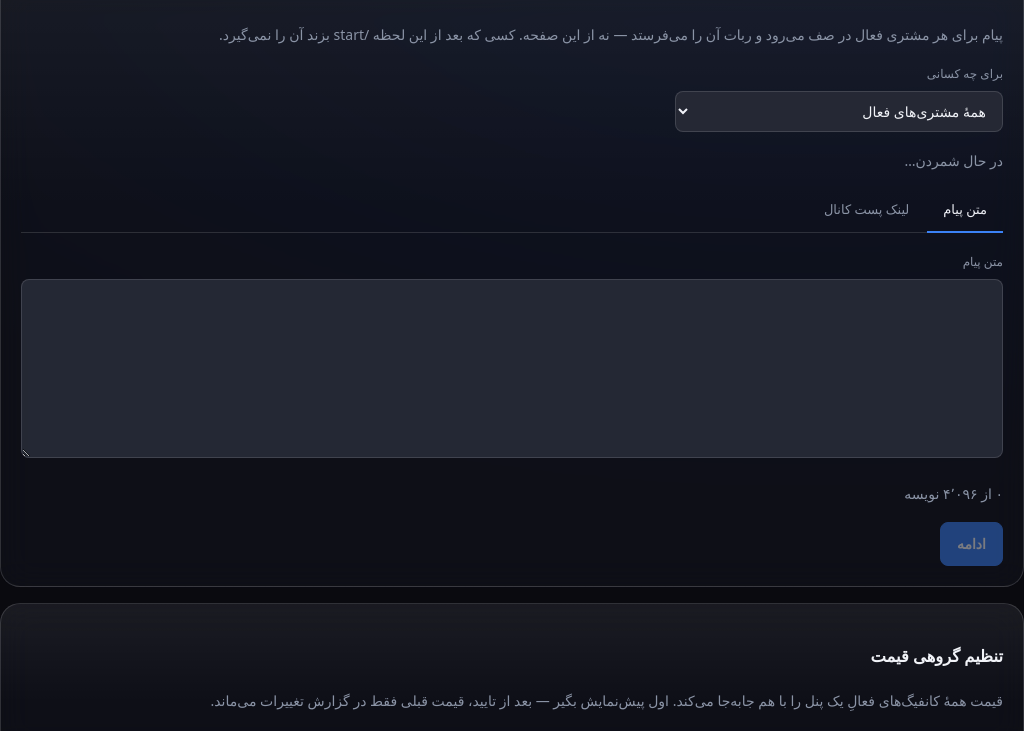
Test: choosing who hears a broadcast › will not send to a panel audience before a panel is chosen
The image size is (1024, 731).
(page scrolled)
Type "سلام" into the text box labelled "متن پیام" at {"x": 512, "y": 369}, box [21, 279, 1003, 458]
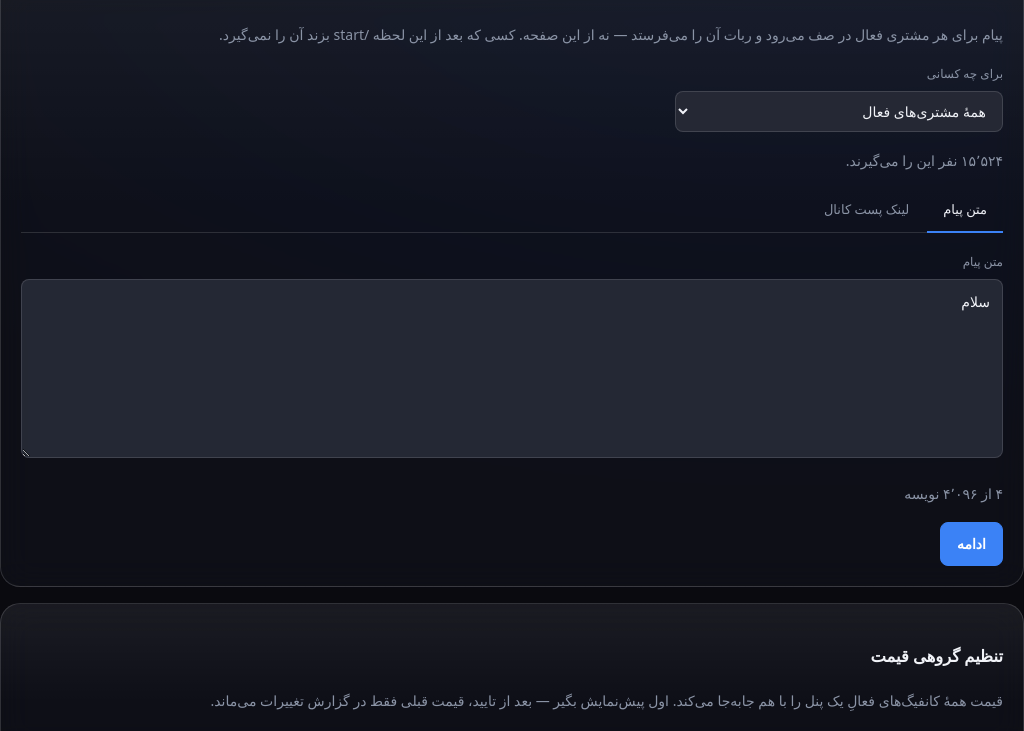
Check: the button "ادامه" is enabled, box [940, 522, 1003, 566]
Select "سرویس فعال روی یک پنل مشخص دارد" in the dropdown labelled "برای چه کسانی" at {"x": 839, "y": 111}, box [675, 91, 1003, 132]
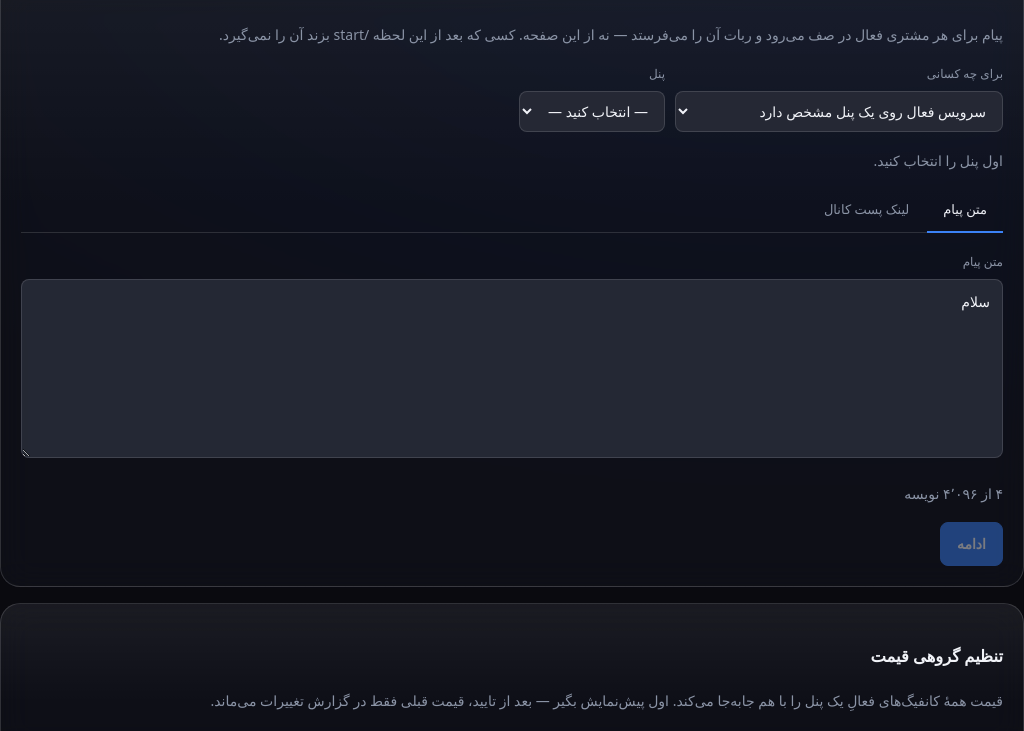
Check: the button "ادامه" is disabled, box [940, 522, 1003, 566]
Check: the text "اول پنل را انتخاب کنید." is shown, box [874, 151, 1003, 170]
Select "سرویس تیتانیوم" in the dropdown labelled "پنل" at {"x": 592, "y": 111}, box [519, 91, 665, 132]
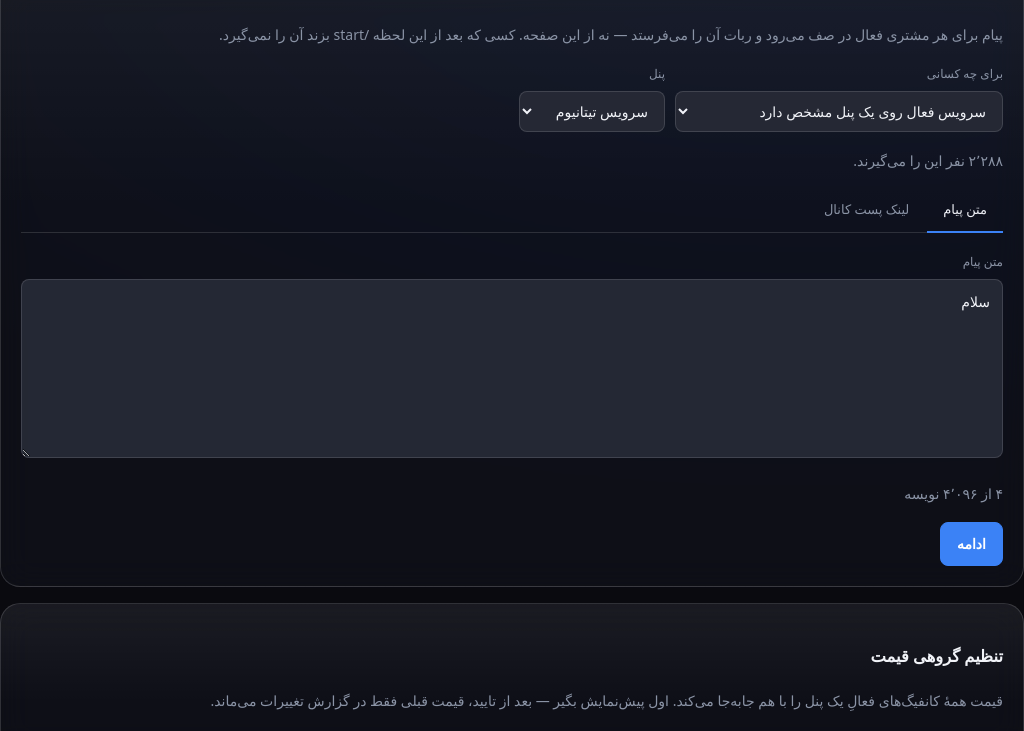
Check: the text "۲٬۲۸۸ نفر این را می‌گیرند." is shown, box [853, 151, 1003, 170]
Check: the button "ادامه" is enabled, box [940, 522, 1003, 566]
